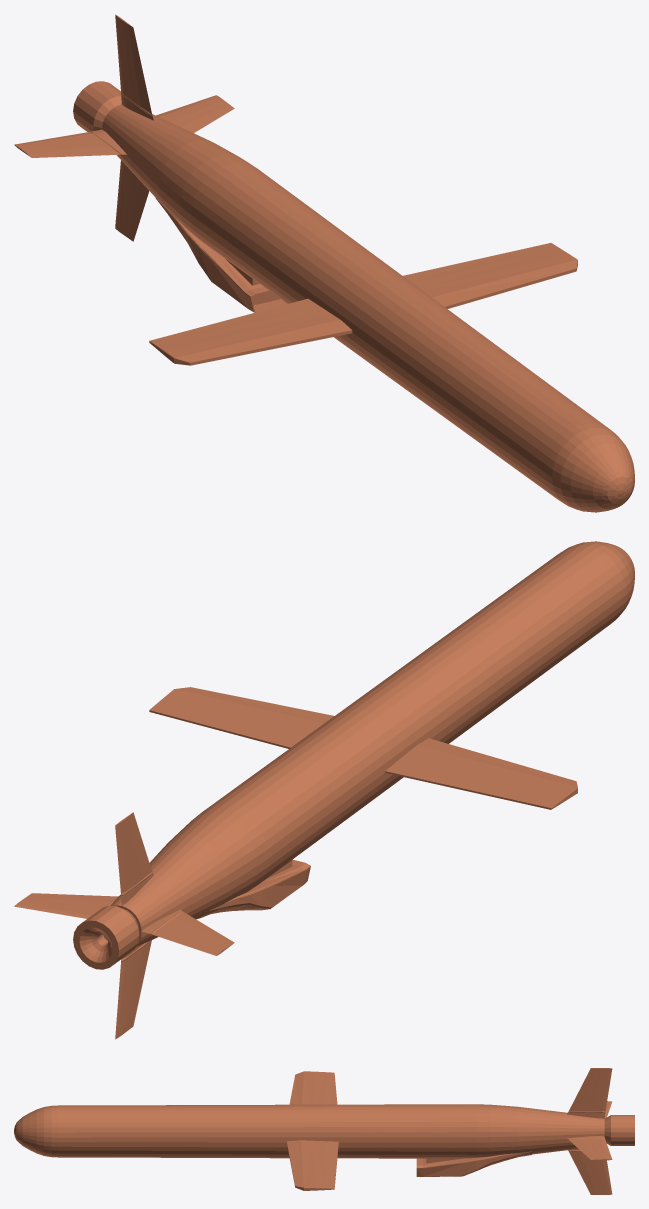
Rendered from Tomahawk.glb.
3 renders of one model, top to bottom at view 1: azimuth 30°, elevation 25°; view 2: azimuth 150°, elevation 25°; view 3: azimuth 270°, elevation 25°, orthographic. The views are drawn at different scales.
Parts seen in each view (by area): view 1: tomahawk_body_lambert5_0; view 2: tomahawk_body_lambert5_0; view 3: tomahawk_body_lambert5_0.
Boxes of the visible parts, x1,y1,x2,y2 form: tomahawk_body_lambert5_0: (14, 14, 634, 512); tomahawk_body_lambert5_0: (14, 541, 634, 1039); tomahawk_body_lambert5_0: (14, 1068, 634, 1194).
Size of the model in its own units: 10.42 by 5.29 by 23.48.
